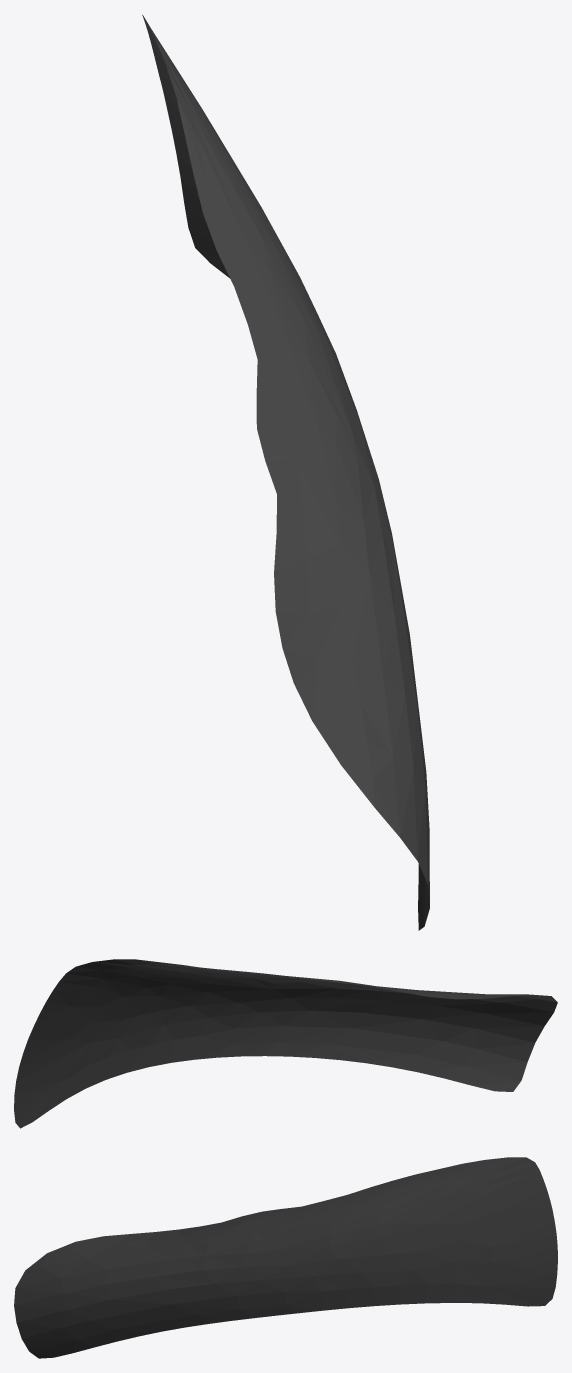
File: Humerus_supracondylar_crest_lateral.glb
3 views of the same model, one above another, from view 1: azimuth 30°, elevation 25°; view 2: azimuth 150°, elevation 25°; view 3: azimuth 270°, elevation 25° (orthographic). The views are drawn at different scales.
Parts seen in each view (by area): view 1: Humerus_supracondylar_crest_lateral; view 2: Humerus_supracondylar_crest_lateral; view 3: Humerus_supracondylar_crest_lateral.
Part boxes in pixels (x1=…): Humerus_supracondylar_crest_lateral: x1=142, y1=14, x2=429, y2=930; Humerus_supracondylar_crest_lateral: x1=14, y1=959, x2=557, y2=1128; Humerus_supracondylar_crest_lateral: x1=14, y1=1157, x2=557, y2=1358.
Bounding box in the file's own units: 0.1221 × 0.1672 × 0.3258.
Materials: 1 (1 with a texture image).
